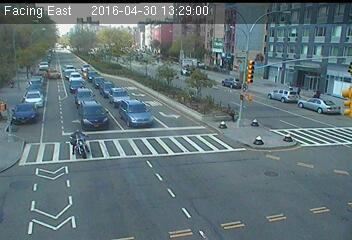neg: (243, 75, 279, 123), (32, 132, 65, 176), (155, 105, 186, 146), (65, 127, 96, 168), (37, 118, 67, 159), (74, 118, 100, 152), (113, 120, 136, 150), (224, 121, 245, 149), (123, 140, 143, 166), (91, 107, 100, 120), (264, 73, 273, 85), (243, 69, 250, 79)
